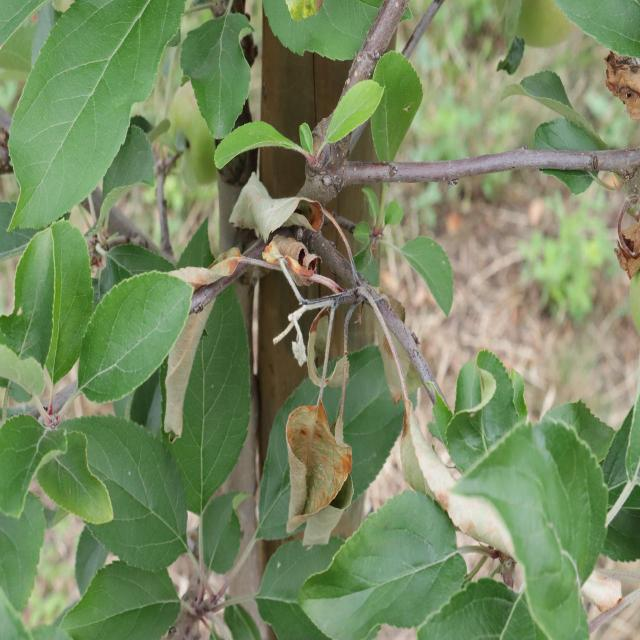-FireBlight-: (290, 341, 352, 540), (246, 178, 346, 298)
